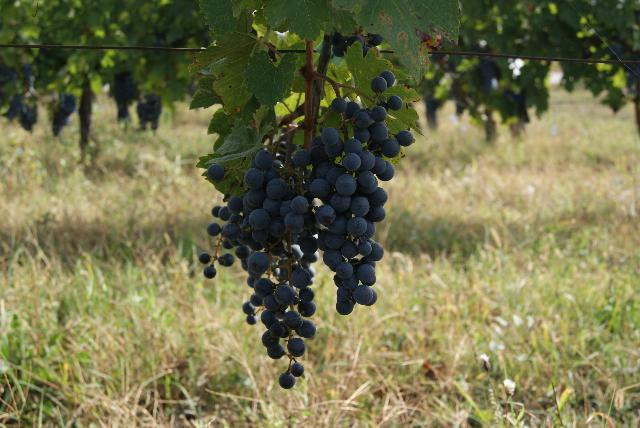grapes: (292, 70, 414, 311), (208, 149, 318, 389)
